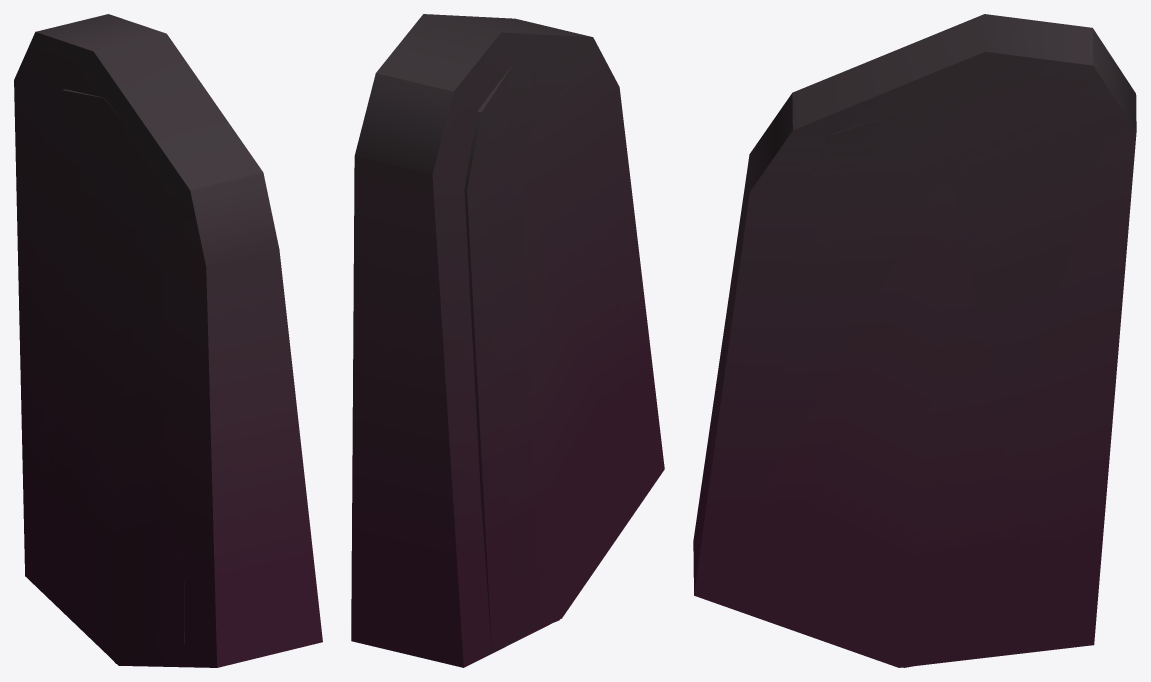
The model's file is walltorun.gltf.
The picture shows the model from 3 angles, left to right: view 1: azimuth 30°, elevation 25°; view 2: azimuth 150°, elevation 25°; view 3: azimuth 270°, elevation 25°; orthographic projection. The views are drawn at different scales.
Parts seen in each view (by area): view 1: wall_big_GEO:PIV, wall_small_GEO:PIV; view 2: wall_big_GEO:PIV, wall_small_GEO:PIV; view 3: wall_big_GEO:PIV, wall_small_GEO:PIV.
Boxes of the visible parts, box(x1,y1,x2,y2) form: wall_big_GEO:PIV: box(14, 14, 322, 667); wall_small_GEO:PIV: box(46, 89, 184, 663); wall_big_GEO:PIV: box(351, 14, 664, 667); wall_small_GEO:PIV: box(464, 63, 629, 647); wall_big_GEO:PIV: box(693, 14, 1136, 667); wall_small_GEO:PIV: box(762, 104, 1038, 667).
Bounding box in the file's own units: 625 × 3234 × 2137.
Materials: 1 (1 with a texture image).
